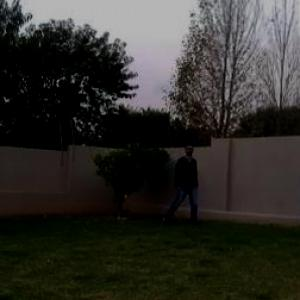follow: (176, 143, 196, 221)
